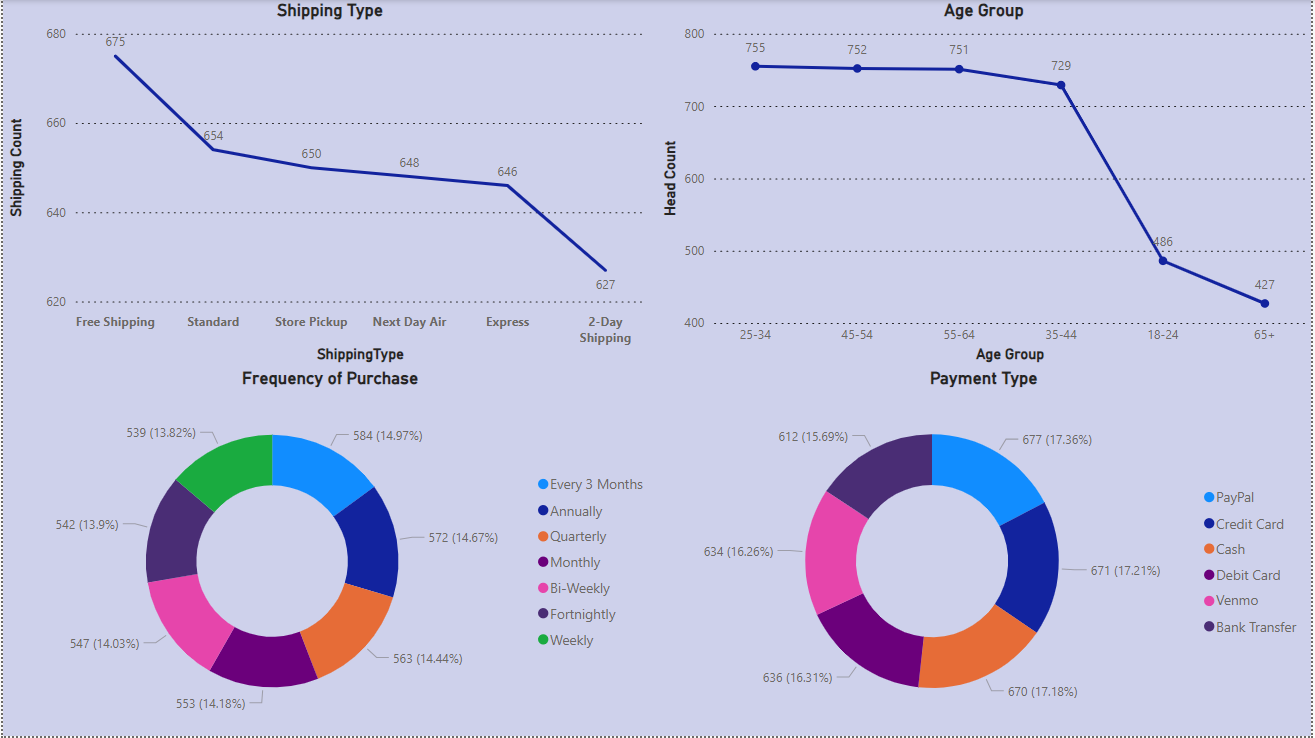

The page's visual inventory and layout, read from the dashboard file:
{"tool":"powerbi","page":{"name":"Page 3","canvas":[1280,720],"ordinal":2},"visuals":[{"type":"donutChart","title":"Payment Type","fields":{"Category":["total_payment_type.PaymentMethod"],"Y":["Sum(total_payment_type.Payment_type)"]},"box":[640,360,640,360],"z":0},{"type":"lineChart","title":"Shipping Type","fields":{"Category":["total_shippingcount_categorytype.ShippingType"],"Y":["Sum(total_shippingcount_categorytype.ShippingCount)"]},"box":[0,0,640,360],"z":1000},{"type":"donutChart","title":"Frequency of Purchase","fields":{"Category":["frequency of purchase.FrequencyofPurchases"],"Y":["Sum(frequency of purchase.fop)"]},"box":[0,360,640,360],"z":2000},{"type":"lineChart","title":"Age Group","fields":{"Category":["age_group.age_group"],"Y":["Sum(age_group.count)"]},"box":[640,0,640,360],"z":3000}]}

Visuals, with their boxes in screenshot pixels (x1, y1, x2, y2), scaled from the page's 1280x720 canvas onto the 1315x738 screenshot:
"Payment Type" donutChart: l=658, t=369, r=1314, b=737
"Shipping Type" lineChart: l=0, t=0, r=658, b=369
"Frequency of Purchase" donutChart: l=0, t=369, r=658, b=737
"Age Group" lineChart: l=658, t=0, r=1314, b=369
